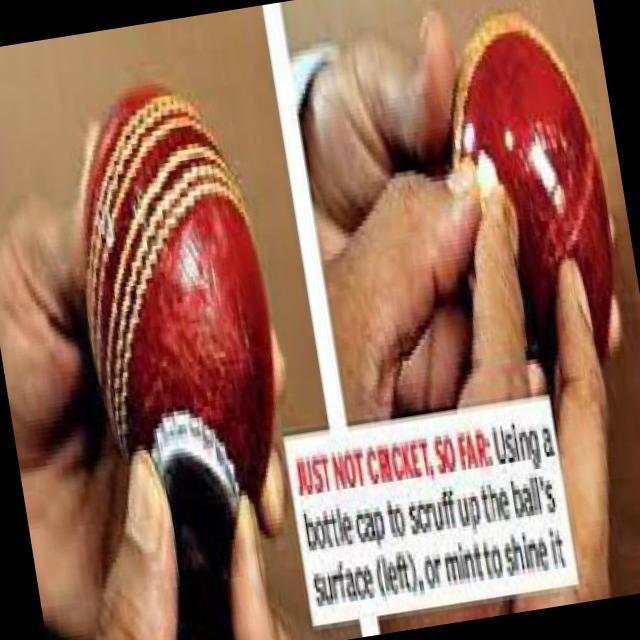-: (58, 68, 311, 489), (487, 0, 640, 353)
